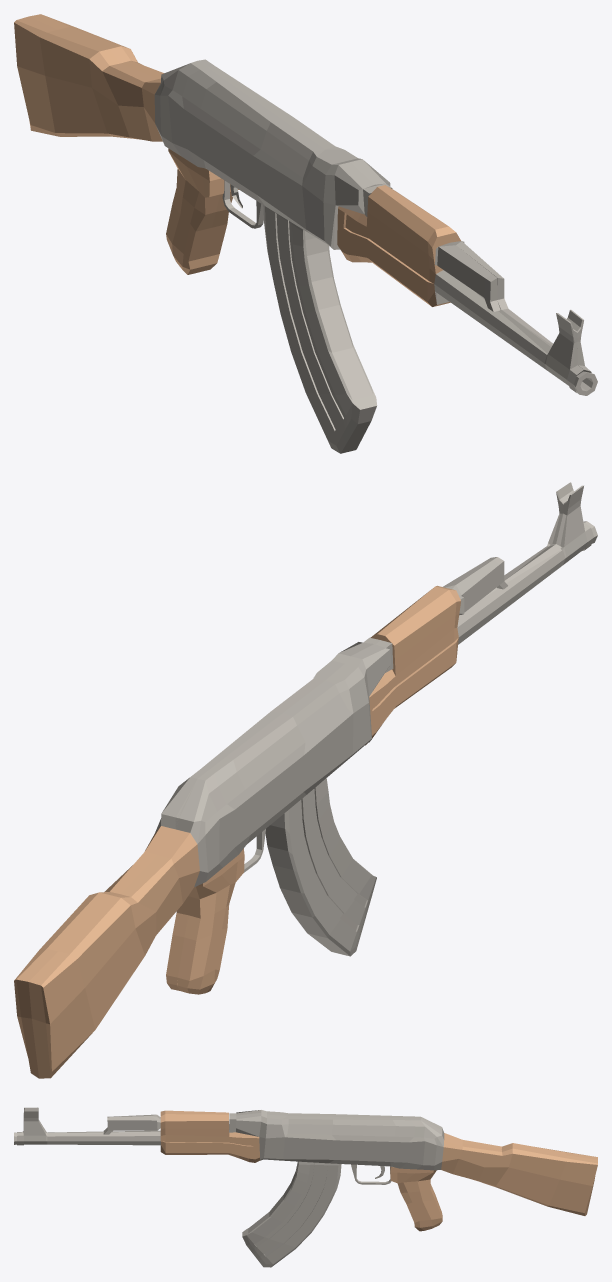
3 views of the same model, one above another, from view 1: azimuth 30°, elevation 25°; view 2: azimuth 150°, elevation 25°; view 3: azimuth 270°, elevation 25° (orthographic). The views are drawn at different scales.
Parts seen in each view (by area): view 1: Body, Cube, Ammo, Trigger; view 2: Body, Cube, Ammo; view 3: Body, Cube, Ammo, Trigger.
Boxes of the visible parts, bbox=[...] form: Body: bbox=[14, 14, 392, 274]; Cube: bbox=[337, 185, 597, 395]; Ammo: bbox=[263, 205, 376, 453]; Trigger: bbox=[222, 180, 263, 228]; Body: bbox=[14, 637, 393, 1078]; Cube: bbox=[365, 482, 597, 745]; Ammo: bbox=[265, 778, 376, 956]; Body: bbox=[229, 1110, 597, 1231]; Cube: bbox=[14, 1107, 260, 1162]; Ammo: bbox=[242, 1161, 341, 1267]; Trigger: bbox=[351, 1164, 391, 1184].
Bounding box in the file's own units: 25.45 × 141 × 479.
